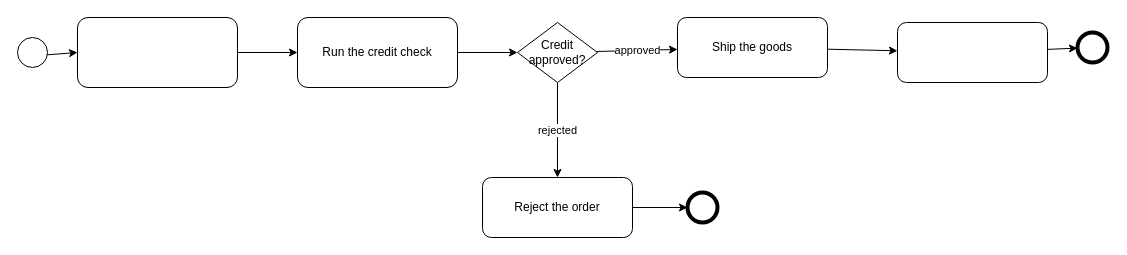
Image size: 1127x255. Some labels were removed from this diagram. Here are the shapes that lost their labels. From the top down, the centre of each, then its label:
At pixel 157 52: "Take the customer order".
At pixel 972 52: "Record the order".
